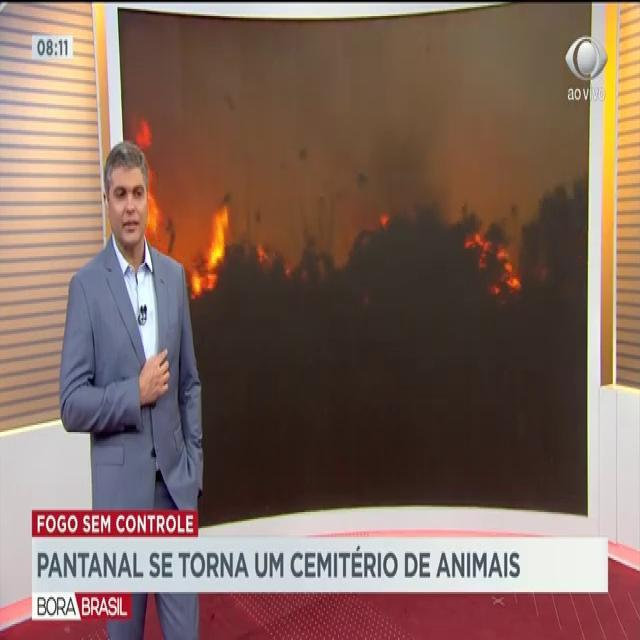Fire: (191, 207, 230, 300), (467, 232, 519, 300), (146, 162, 161, 249)
Smoke: (168, 18, 469, 214)
